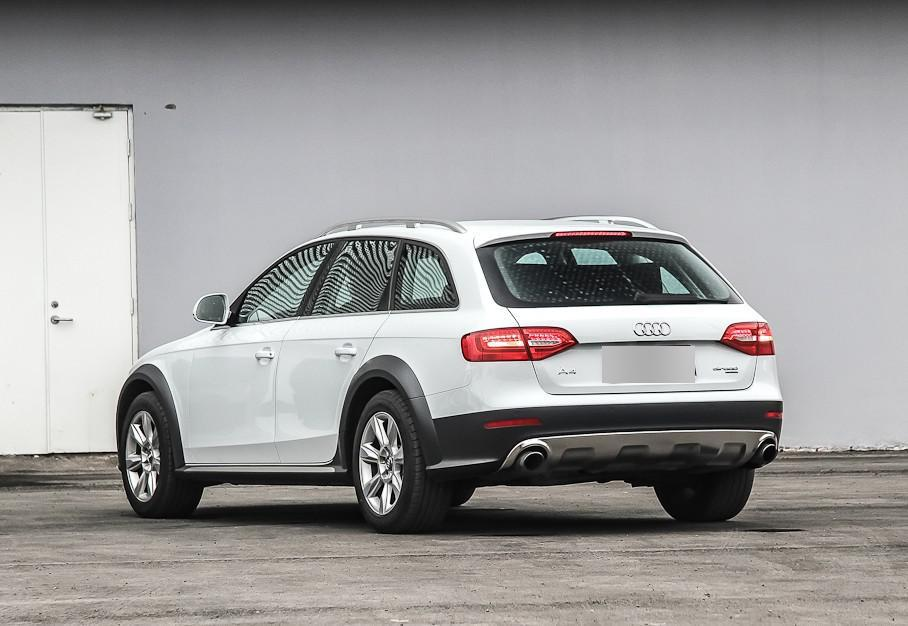Wagon: (115, 213, 786, 536)
